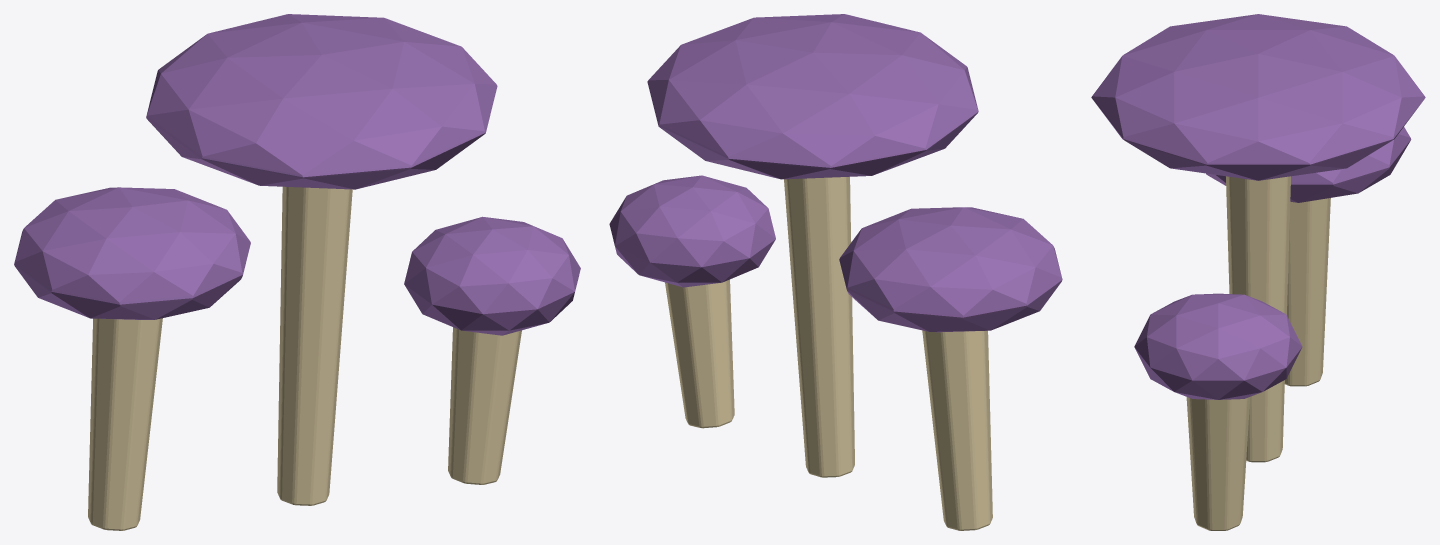
File: biome_mycelium.glb
The picture shows the model from 3 angles, left to right: view 1: azimuth 30°, elevation 25°; view 2: azimuth 150°, elevation 25°; view 3: azimuth 270°, elevation 25°; orthographic projection. The views are drawn at different scales.
Visible parts, largest first — view 1: MushroomCap, MushroomStem; view 2: MushroomCap, MushroomStem; view 3: MushroomCap, MushroomStem.
Part boxes in pixels (<box>): MushroomCap: <box>14,14,580,335</box>; MushroomStem: <box>88,186,521,530</box>; MushroomCap: <box>609,14,1062,332</box>; MushroomStem: <box>665,176,992,530</box>; MushroomCap: <box>1091,14,1425,399</box>; MushroomStem: <box>1186,176,1330,530</box>.
Size of the model in its own units: 5.27 by 4.5 by 3.34.
